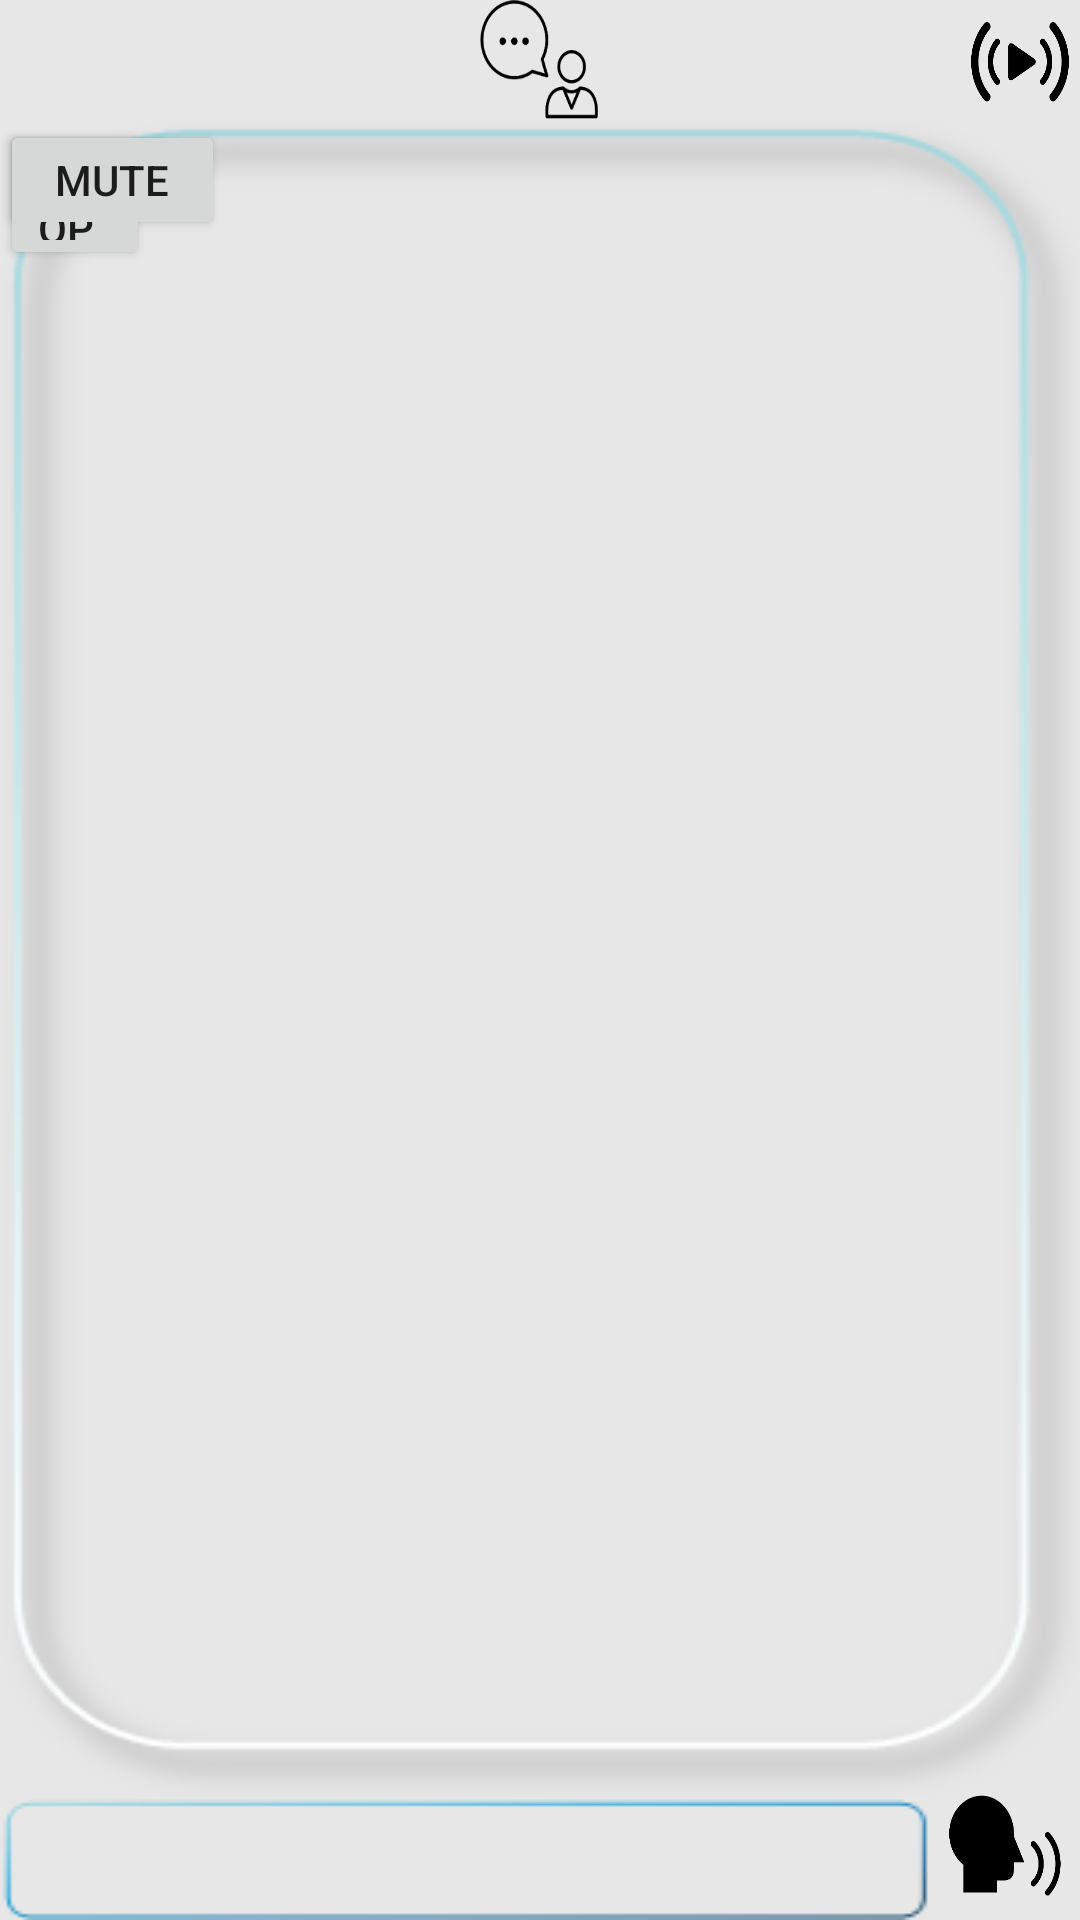

Icons on this 1080×1920 Android screen, each with the point to tap as (x=x, y=y):
speak: (x=1005, y=1845)
